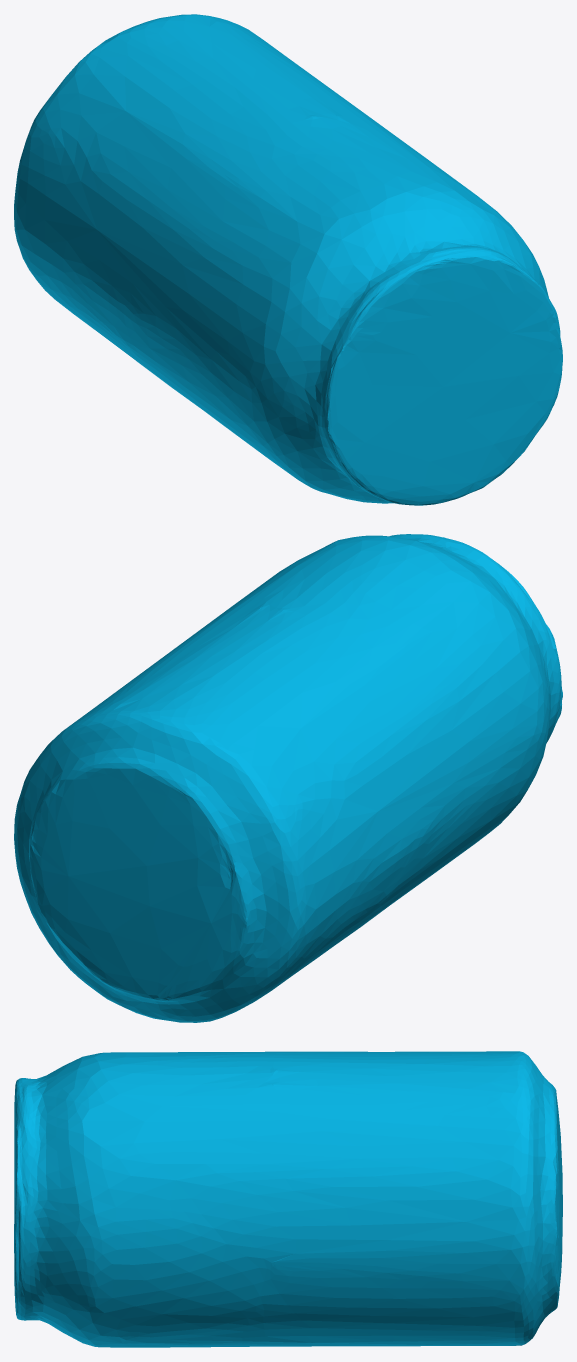
The model's file is soda_can.dae.
3 renders of one model, top to bottom at view 1: azimuth 30°, elevation 25°; view 2: azimuth 150°, elevation 25°; view 3: azimuth 270°, elevation 25°, orthographic. The views are drawn at different scales.
Visible parts, largest first — view 1: node; view 2: node; view 3: node.
Part boxes in pixels (box(x1,y1,x2,y2)): node: box(14, 14, 562, 505); node: box(14, 534, 562, 1022); node: box(14, 1051, 562, 1347).
Size of the model in its own units: 67.01 by 67.02 by 124.
Materials: 1 (1 with a texture image).
